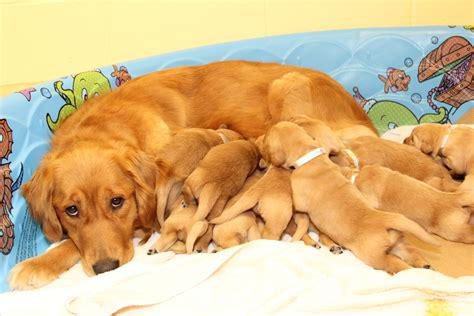dog: (6, 60, 379, 291), (255, 122, 436, 275), (155, 123, 246, 226), (183, 139, 265, 223), (402, 123, 449, 159)
